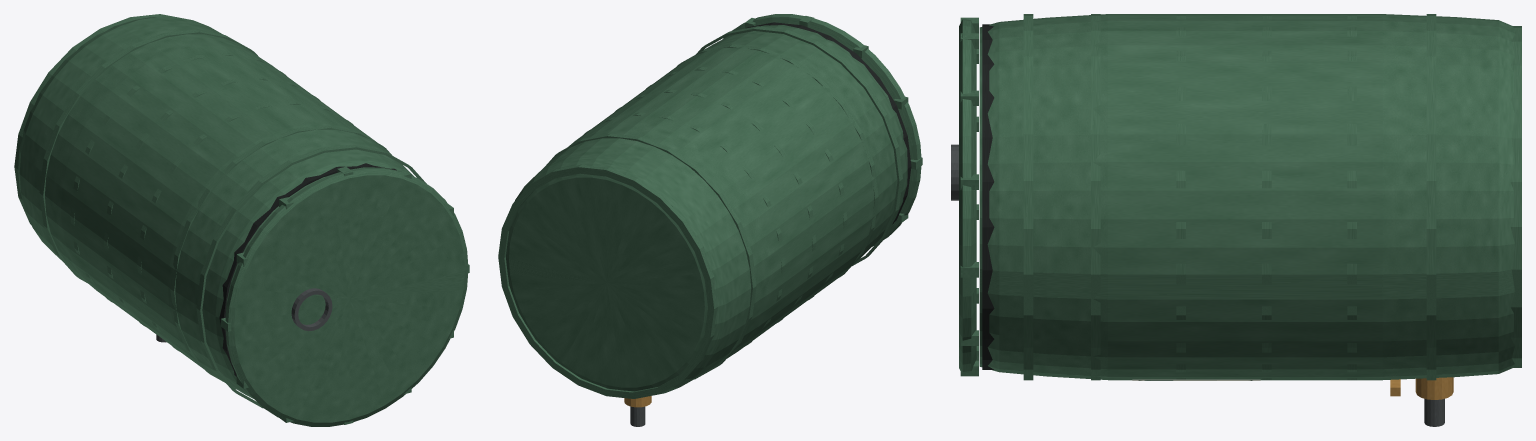
The model's file is Barrel_200L.glb.
The picture shows the model from 3 angles, left to right: view 1: azimuth 30°, elevation 25°; view 2: azimuth 150°, elevation 25°; view 3: azimuth 270°, elevation 25°; orthographic projection. The views are drawn at different scales.
Parts seen in each view (by area): view 1: Moulded_200L_Tank_Body, Removable_Screw_Lid, Moulded_Stiffening_Rib_06, Moulded_Stiffening_Rib_01, Moulded_Stiffening_Rib_05, Mouth_EPDM_Seal, Base_Reinforcement_Ring, 75mm_Inlet_Bung, Moulded_Stiffening_Rib_04, Moulded_Stiffening_Rib_03, Moulded_Stiffening_Rib_02; view 2: Moulded_200L_Tank_Body, Base_Reinforcement_Ring, Removable_Screw_Lid, Moulded_Stiffening_Rib_06, Moulded_Stiffening_Rib_01, Moulded_Stiffening_Rib_05, Mouth_EPDM_Seal, Moulded_Stiffening_Rib_04, Moulded_Stiffening_Rib_02, Moulded_Stiffening_Rib_03; view 3: Moulded_200L_Tank_Body, Removable_Screw_Lid, Moulded_Stiffening_Rib_01, Moulded_Stiffening_Rib_06, Moulded_Stiffening_Rib_05, Base_Reinforcement_Ring, Mouth_EPDM_Seal, Moulded_Stiffening_Rib_02, Moulded_Stiffening_Rib_03, Moulded_Stiffening_Rib_04, Outlet_Brass_Spigot_Body, Outlet_Nozzle_Thread.
Part boxes in pixels (x1,y1,x2,y2): Moulded_200L_Tank_Body: (18, 17, 414, 398); Removable_Screw_Lid: (225, 167, 468, 426); Moulded_Stiffening_Rib_06: (196, 144, 426, 408); Moulded_Stiffening_Rib_01: (39, 29, 258, 282); Moulded_Stiffening_Rib_05: (170, 125, 391, 382); Mouth_EPDM_Seal: (219, 163, 396, 376); Base_Reinforcement_Ring: (14, 14, 174, 224); 75mm_Inlet_Bung: (291, 288, 332, 331); Moulded_Stiffening_Rib_04: (137, 101, 353, 351); Moulded_Stiffening_Rib_03: (103, 76, 320, 326); Moulded_Stiffening_Rib_02: (70, 52, 286, 302); Moulded_200L_Tank_Body: (506, 25, 907, 393); Base_Reinforcement_Ring: (498, 164, 717, 398); Removable_Screw_Lid: (722, 14, 921, 246); Moulded_Stiffening_Rib_06: (696, 26, 902, 266); Moulded_Stiffening_Rib_01: (545, 133, 756, 379); Moulded_Stiffening_Rib_05: (676, 44, 878, 277); Mouth_EPDM_Seal: (746, 22, 911, 224); Moulded_Stiffening_Rib_04: (646, 67, 847, 299); Moulded_Stiffening_Rib_02: (584, 112, 785, 345); Moulded_Stiffening_Rib_03: (615, 89, 816, 322); Moulded_200L_Tank_Body: (979, 14, 1514, 380); Removable_Screw_Lid: (959, 19, 976, 373); Moulded_Stiffening_Rib_01: (1426, 14, 1436, 380); Moulded_Stiffening_Rib_06: (1023, 14, 1033, 380); Moulded_Stiffening_Rib_05: (1091, 14, 1100, 380); Base_Reinforcement_Ring: (1510, 26, 1521, 367); Mouth_EPDM_Seal: (982, 24, 994, 369); Moulded_Stiffening_Rib_02: (1347, 15, 1356, 380); Moulded_Stiffening_Rib_03: (1262, 15, 1271, 380); Moulded_Stiffening_Rib_04: (1176, 15, 1185, 379); Outlet_Brass_Spigot_Body: (1415, 377, 1453, 399); Outlet_Nozzle_Thread: (1424, 398, 1444, 426).
Bounding box in the file's own units: 0.602 × 0.7085 × 0.935.
Materials: 5 (5 with a texture image).
